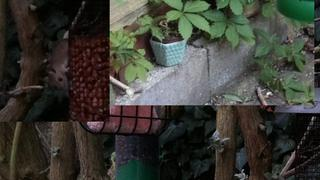mouse: (44, 40, 70, 90)
